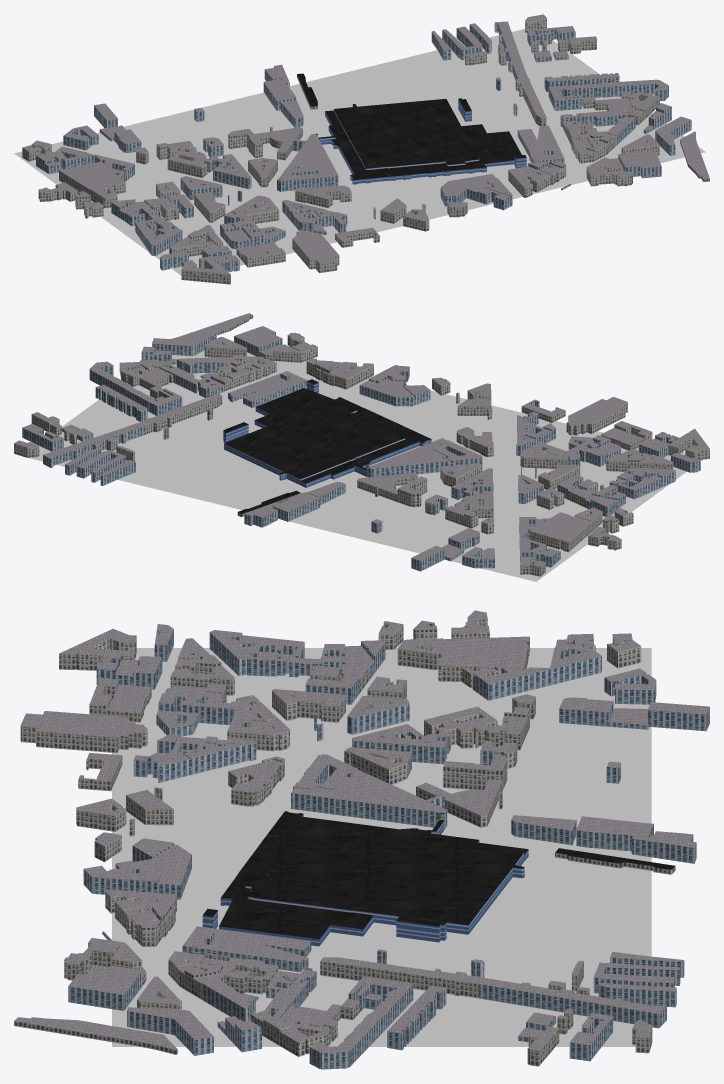
Rendered from parisTrainStation.fbx.
3 renders of one model, top to bottom at view 1: azimuth 30°, elevation 25°; view 2: azimuth 150°, elevation 25°; view 3: azimuth 270°, elevation 25°, orthographic. The views are drawn at different scales.
Visible parts, largest first — view 1: Roof, EXPORT_GOOGLE_SAT_WM, Areas:building; view 2: Roof, Areas:building, EXPORT_GOOGLE_SAT_WM; view 3: Roof, EXPORT_GOOGLE_SAT_WM, Areas:building.
Part boxes in pixels (x1,y1,x2,y2): Roof: [23, 14, 709, 274]; EXPORT_GOOGLE_SAT_WM: [14, 29, 705, 275]; Areas:building: [22, 17, 709, 284]; Roof: [14, 313, 709, 566]; Areas:building: [14, 315, 709, 576]; EXPORT_GOOGLE_SAT_WM: [22, 332, 702, 581]; Roof: [14, 610, 709, 1052]; EXPORT_GOOGLE_SAT_WM: [112, 648, 651, 1046]; Areas:building: [14, 614, 709, 1069].
Size of the model in its own units: 119269 by 2700 by 78860.
